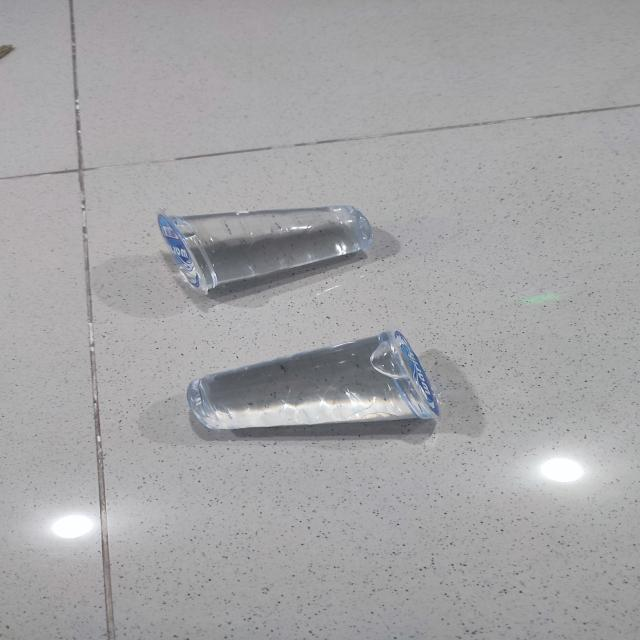air gelas: (183, 326, 442, 448), (141, 199, 388, 298)
